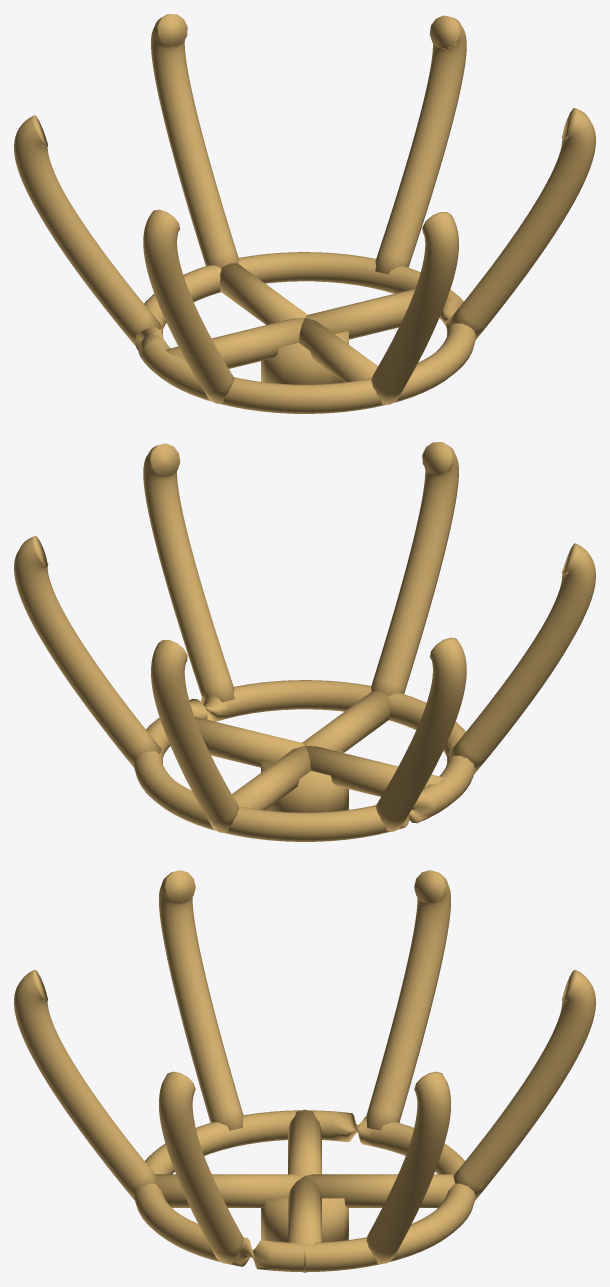
The model's file is stuller-lg-500090892-6-prong.glb.
3 views of the same model, one above another, from view 1: azimuth 30°, elevation 25°; view 2: azimuth 150°, elevation 25°; view 3: azimuth 270°, elevation 25° (orthographic).
Visible parts, largest first — view 1: Metal.011, Metal.016, Metal.017, Metal.021, Metal.018, Metal.019, Metal.020, Metal.012, Metal.014, Metal.013, Metal.015, Metal.010; view 2: Metal.011, Metal.021, Metal.020, Metal.016, Metal.019, Metal.018, Metal.017, Metal.012, Metal.014, Metal.015, Metal.013, Metal.010; view 3: Metal.011, Metal.018, Metal.019, Metal.017, Metal.020, Metal.021, Metal.016, Metal.013, Metal.015, Metal.010, Metal.012, Metal.014.
Boxes of the visible parts, left/top/right/bottom form: Metal.011: left=134, top=252, right=476, bottom=413; Metal.016: left=375, top=15, right=466, bottom=274; Metal.017: left=151, top=14, right=238, bottom=267; Metal.021: left=448, top=108, right=595, bottom=339; Metal.018: left=14, top=115, right=161, bottom=346; Metal.019: left=143, top=209, right=234, bottom=403; Metal.020: left=371, top=212, right=458, bottom=404; Metal.012: left=305, top=288, right=415, bottom=339; Metal.014: left=165, top=317, right=304, bottom=368; Metal.013: left=219, top=263, right=307, bottom=324; Metal.015: left=299, top=318, right=377, bottom=382; Metal.010: left=261, top=322, right=348, bottom=384; Metal.011: left=133, top=680, right=475, bottom=841; Metal.021: left=143, top=443, right=234, bottom=702; Metal.020: left=371, top=442, right=458, bottom=695; Metal.016: left=14, top=536, right=161, bottom=767; Metal.019: left=448, top=543, right=595, bottom=774; Metal.018: left=375, top=637, right=466, bottom=831; Metal.017: left=151, top=640, right=238, bottom=832; Metal.012: left=194, top=716, right=304, bottom=767; Metal.014: left=305, top=745, right=444, bottom=796; Metal.015: left=302, top=691, right=390, bottom=752; Metal.013: left=232, top=746, right=310, bottom=810; Metal.010: left=261, top=750, right=348, bottom=812; Metal.011: left=134, top=1110, right=475, bottom=1271; Metal.018: left=366, top=870, right=450, bottom=1130; Metal.019: left=159, top=870, right=243, bottom=1130; Metal.017: left=453, top=969, right=595, bottom=1200; Metal.020: left=14, top=969, right=156, bottom=1200; Metal.021: left=159, top=1071, right=243, bottom=1263; Metal.016: left=366, top=1071, right=450, bottom=1263; Metal.013: left=305, top=1174, right=454, bottom=1207; Metal.015: left=155, top=1174, right=304, bottom=1207; Metal.010: left=261, top=1198, right=348, bottom=1242; Metal.012: left=288, top=1176, right=321, bottom=1272; Metal.014: left=288, top=1109, right=321, bottom=1175.
Bounding box in the file's own units: 7.04 × 4.05 × 7.92.
